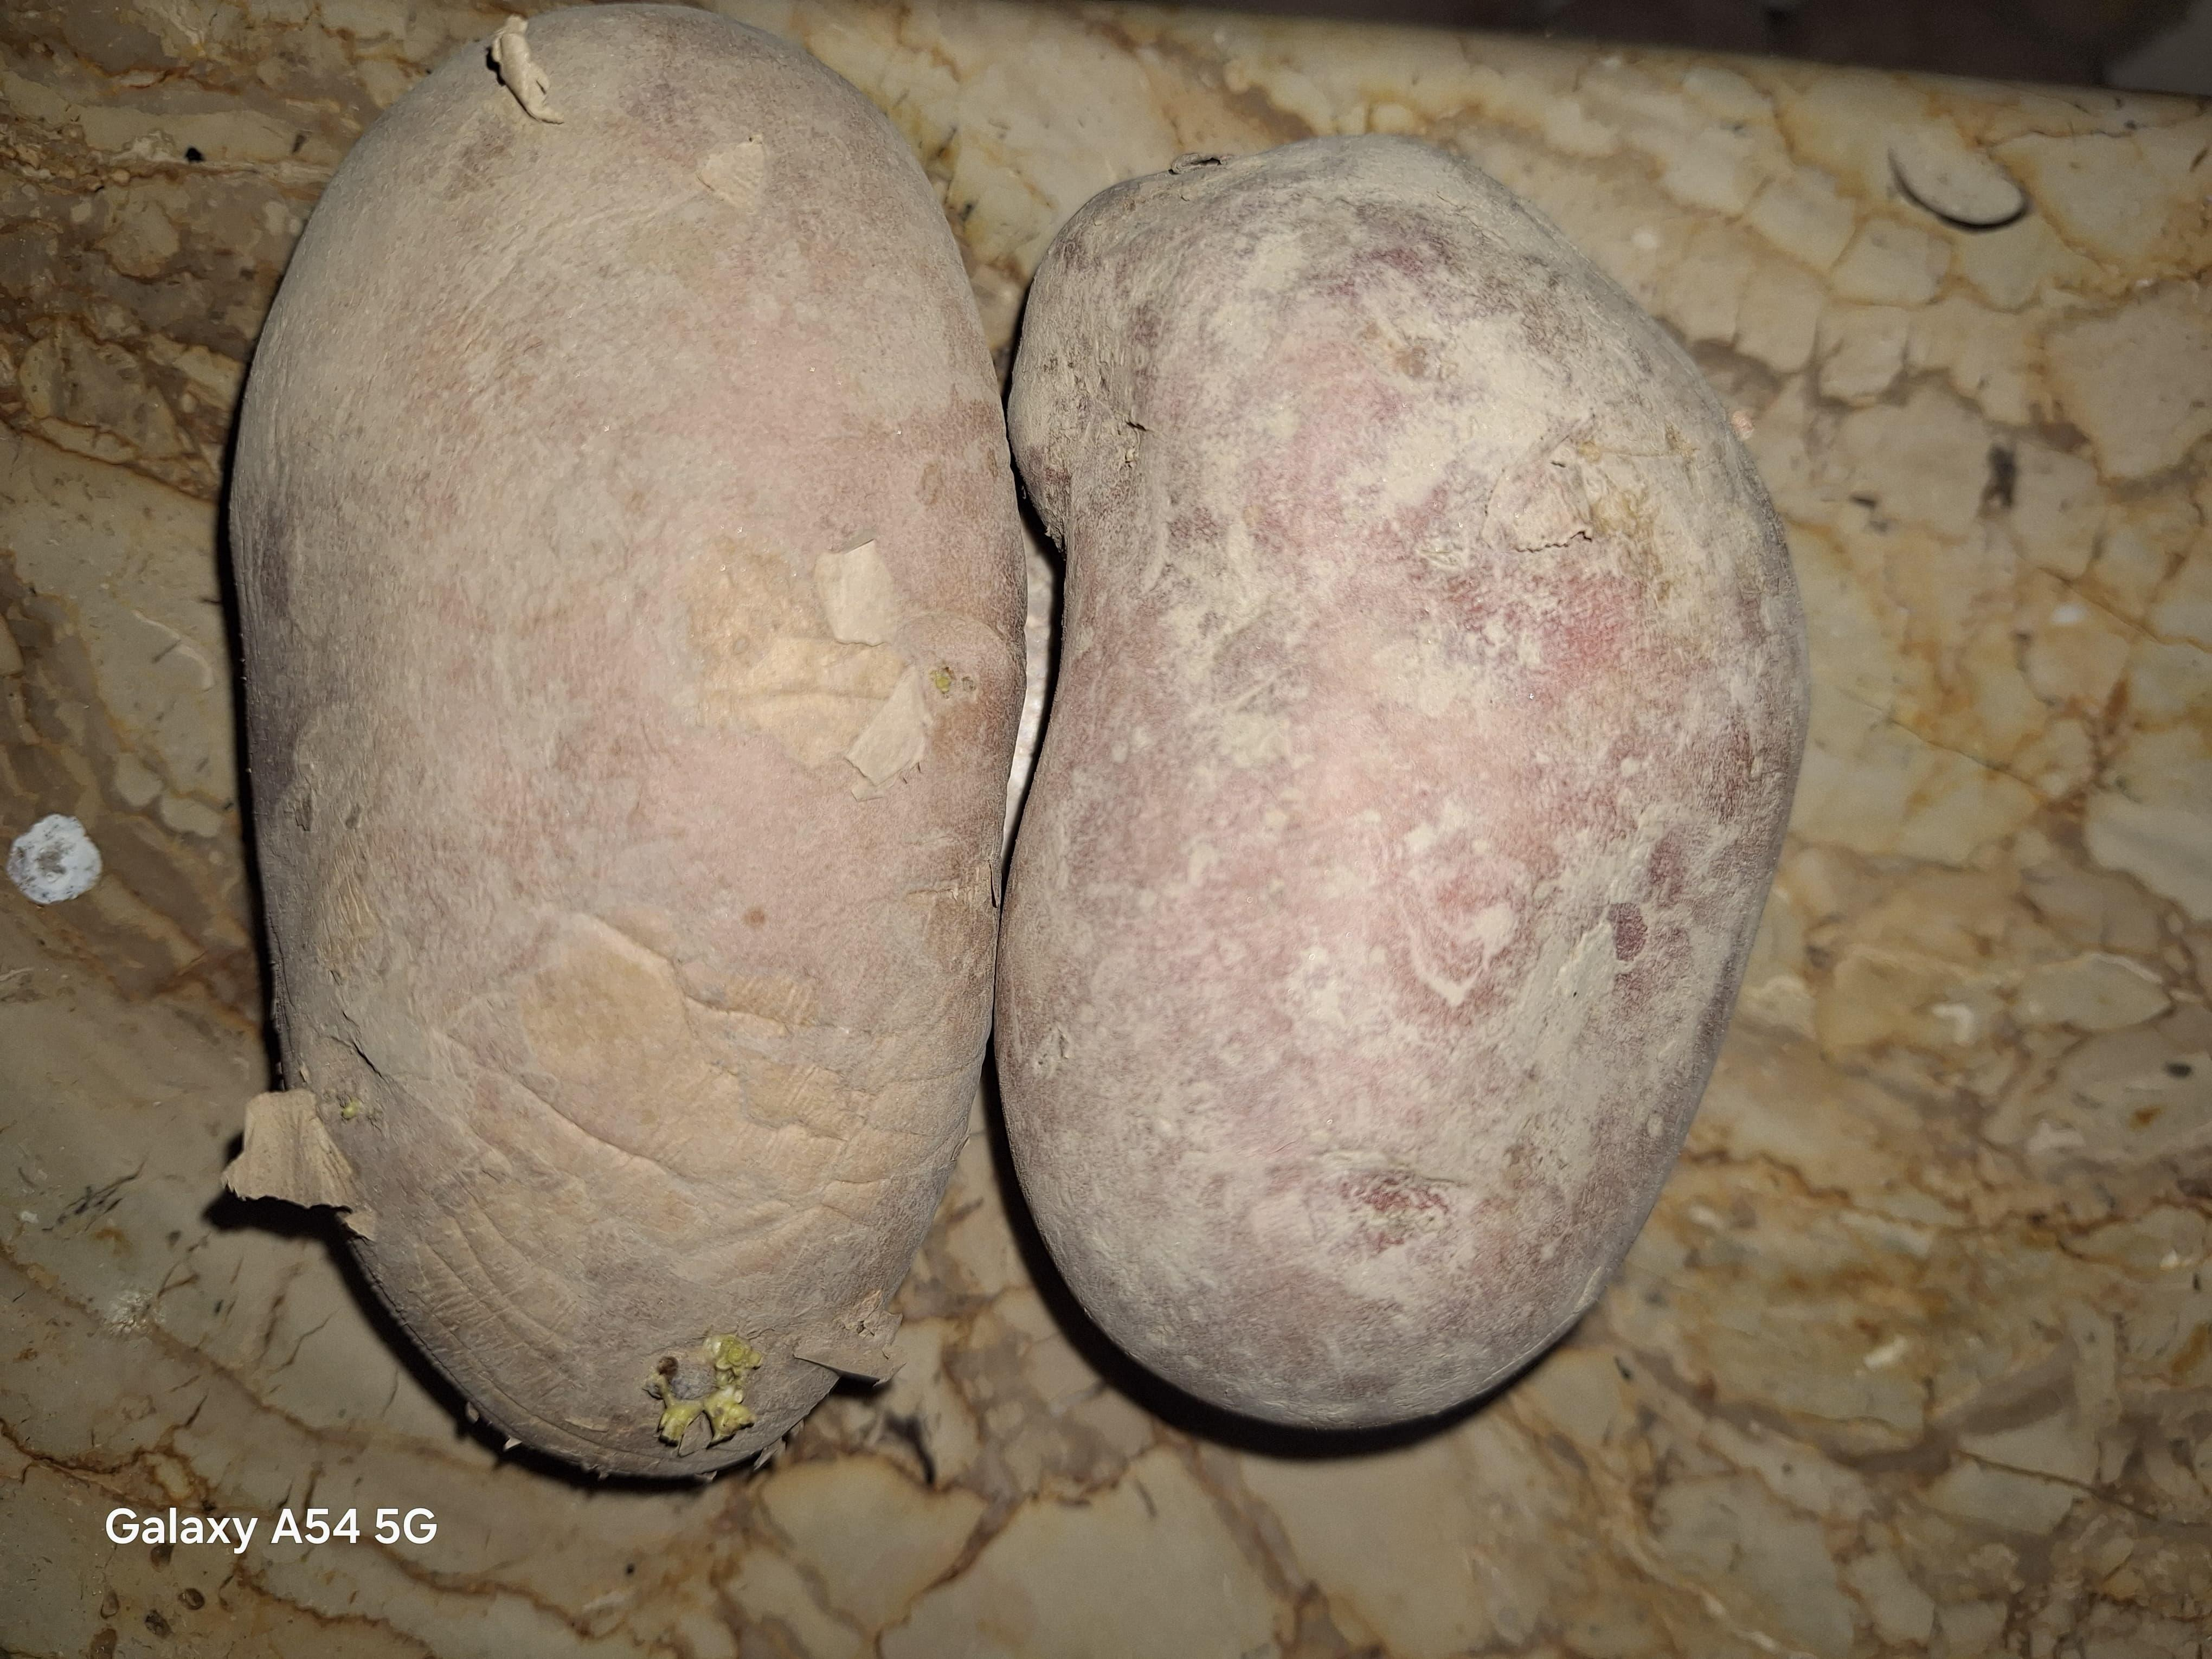non-mango: (218, 2, 1031, 1483), (989, 129, 1813, 1436)
